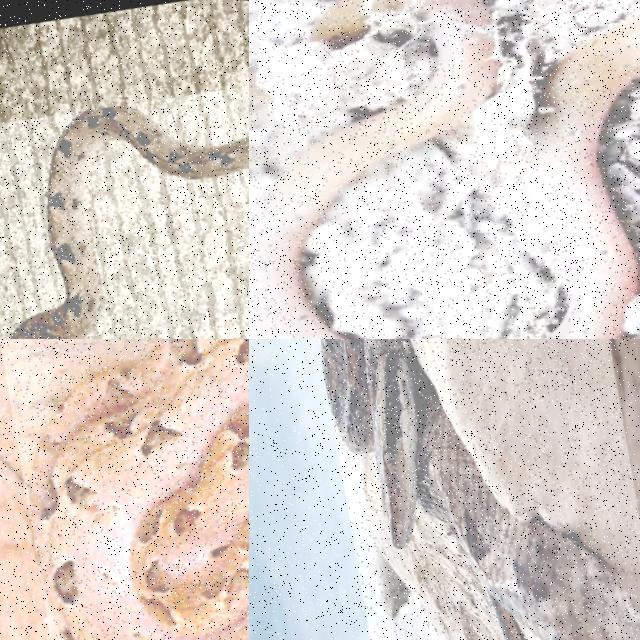Calliophis maculiceps: (249, 0, 497, 338)
Calloselasma rhodostoma: (321, 339, 639, 639), (31, 339, 248, 639), (14, 108, 248, 338)
snake: (321, 339, 639, 639), (249, 0, 497, 338), (31, 339, 248, 639), (14, 108, 248, 338)
